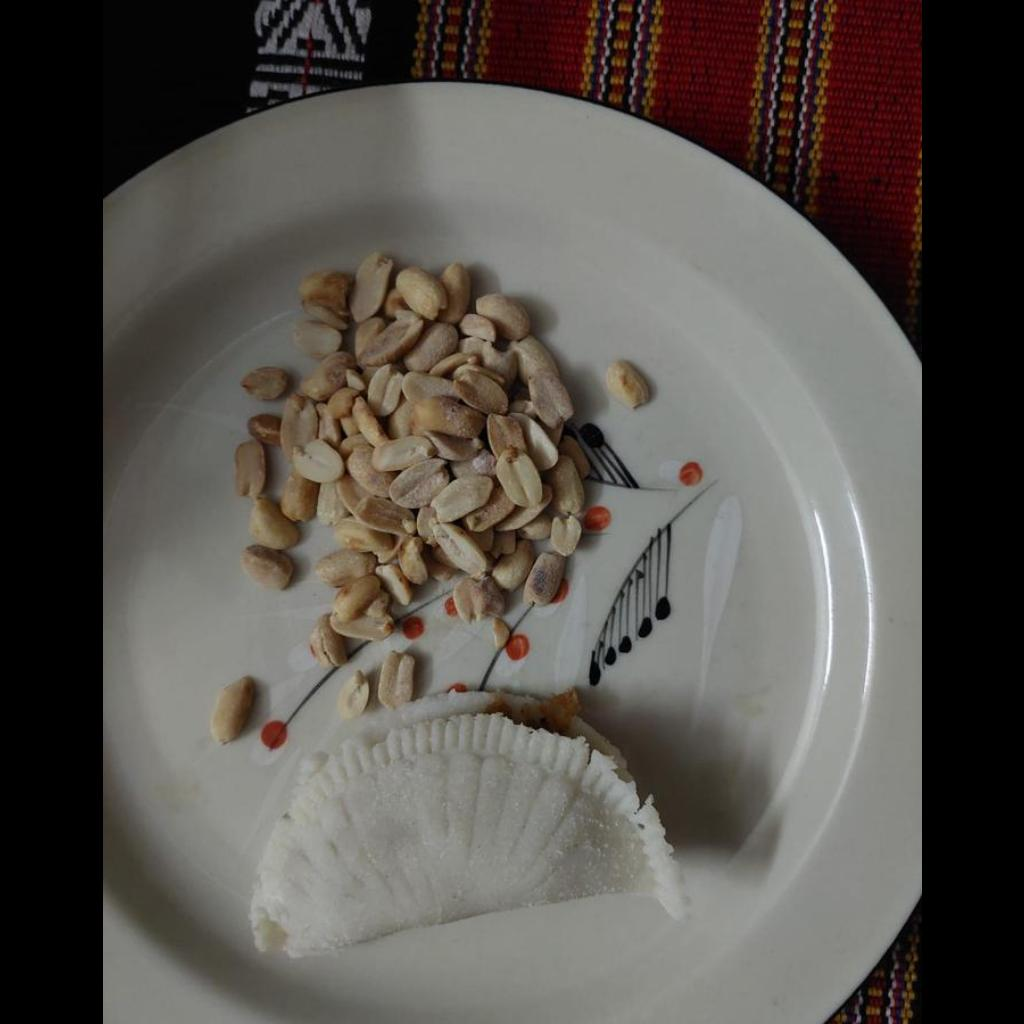badam: (227, 251, 598, 661), (211, 677, 253, 744), (376, 651, 411, 708), (606, 361, 648, 408), (340, 670, 367, 717)
sweets: (248, 690, 689, 956)
